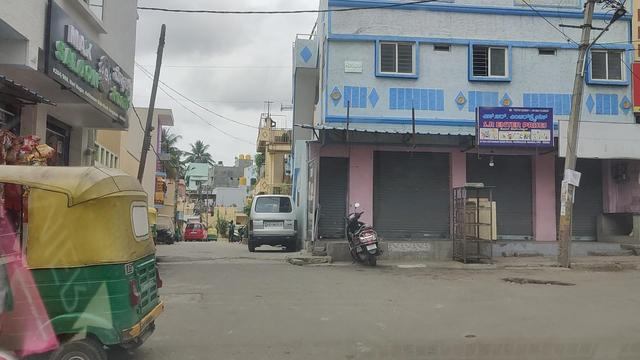RoadDamages: (503, 271, 585, 294), (158, 289, 205, 306)
